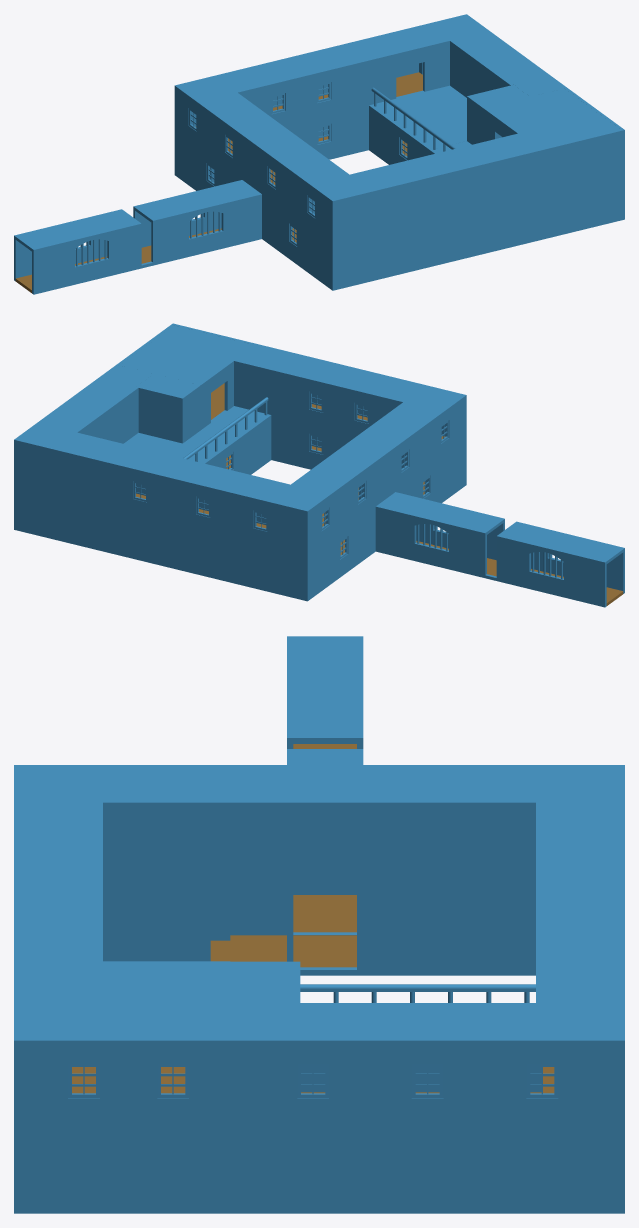
File: Field ver3.fbx
The picture shows the model from 3 angles, top to bottom: view 1: azimuth 30°, elevation 25°; view 2: azimuth 150°, elevation 25°; view 3: azimuth 270°, elevation 25°; orthographic projection. The views are drawn at different scales.
Parts seen in each view (by area): view 1: ShapeIndexedFaceSet; view 2: ShapeIndexedFaceSet; view 3: ShapeIndexedFaceSet.
Boxes of the visible parts, x1,y1,x2,y2 form: ShapeIndexedFaceSet: [14, 14, 624, 294]; ShapeIndexedFaceSet: [14, 323, 624, 607]; ShapeIndexedFaceSet: [14, 636, 624, 1213].
Bounding box in the file's own units: 91.2 × 15 × 48.
